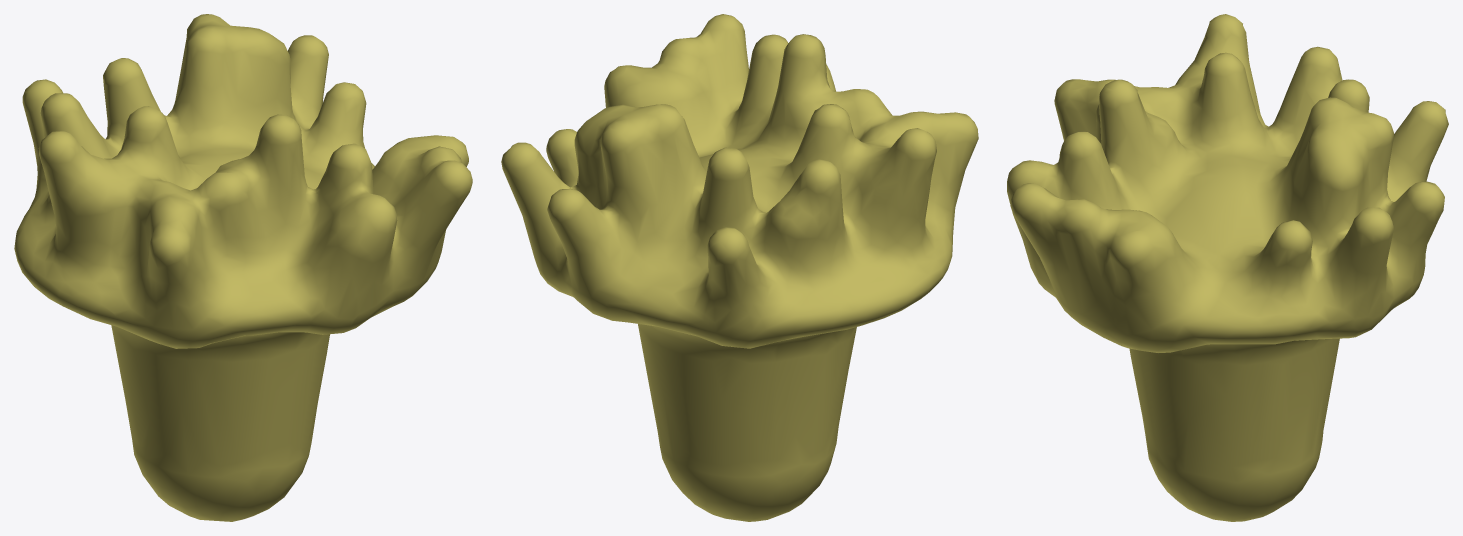
File: soft.glb
3 renders of one model, left to right at view 1: azimuth 30°, elevation 25°; view 2: azimuth 150°, elevation 25°; view 3: azimuth 270°, elevation 25°, orthographic.
Visible parts, largest first — view 1: soft; view 2: soft; view 3: soft.
Boxes of the visible parts, x1,y1,x2,y2 form: soft: (14,14,472,521); soft: (501,14,978,521); soft: (1007,14,1448,521).
Bounding box in the file's own units: 0.5783 × 0.6437 × 0.5963.
